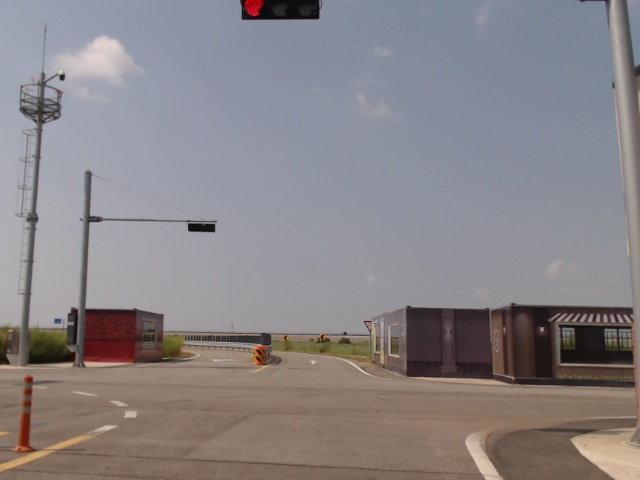red_3: (241, 0, 319, 19)
